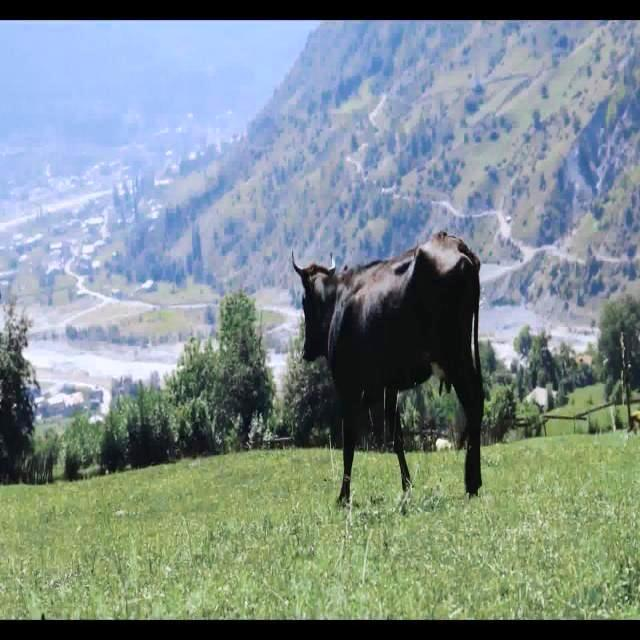COW: (292, 232, 484, 505)
